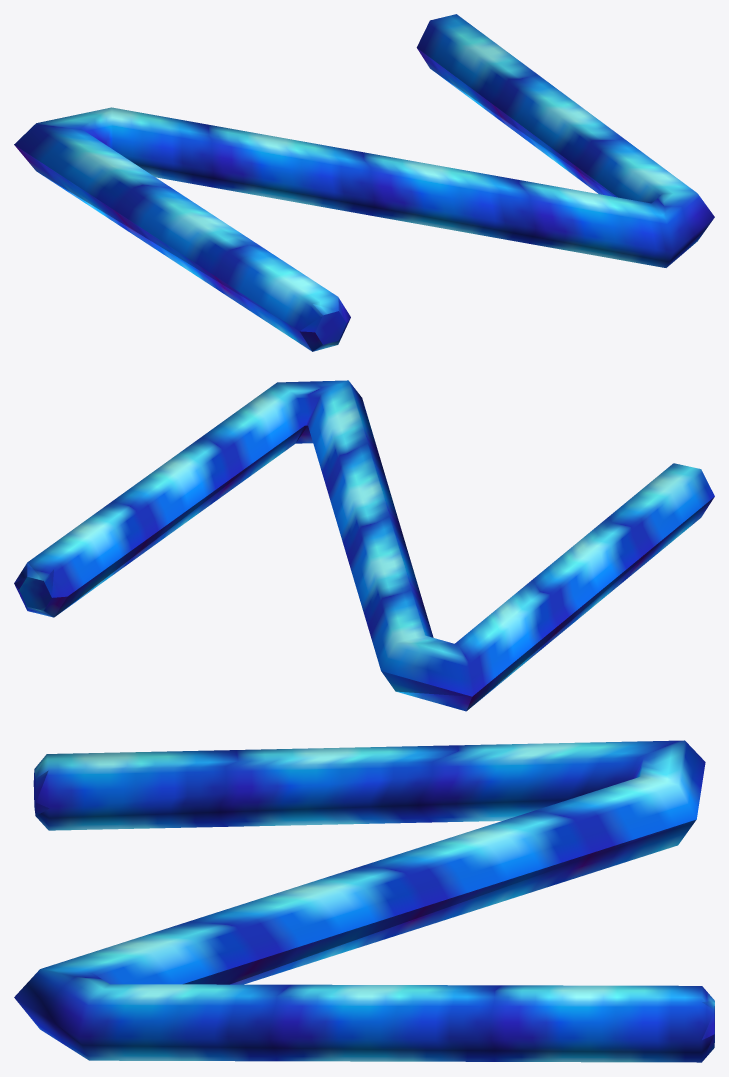
The model's file is furni_0200461.FBX.
3 views of the same model, one above another, from view 1: azimuth 30°, elevation 25°; view 2: azimuth 150°, elevation 25°; view 3: azimuth 270°, elevation 25° (orthographic). The views are drawn at different scales.
Visible parts, largest first — view 1: furni_0200461; view 2: furni_0200461; view 3: furni_0200461.
Part boxes in pixels (left/top/right/bottom): furni_0200461: left=14, top=14, right=714, bottom=351; furni_0200461: left=14, top=380, right=714, bottom=711; furni_0200461: left=14, top=740, right=714, bottom=1062.
Size of the model in its own units: 50.53 by 5.11 by 53.78.
Materials: 1 (1 with a texture image).
